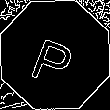P_N: (29, 24, 81, 86)
